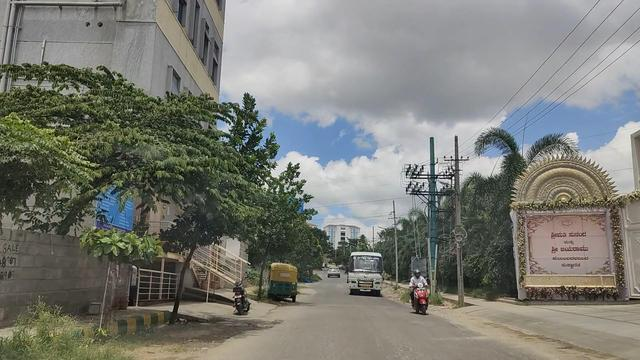HMV: (344, 245, 390, 306)
RoadDamages: (214, 316, 263, 336)
